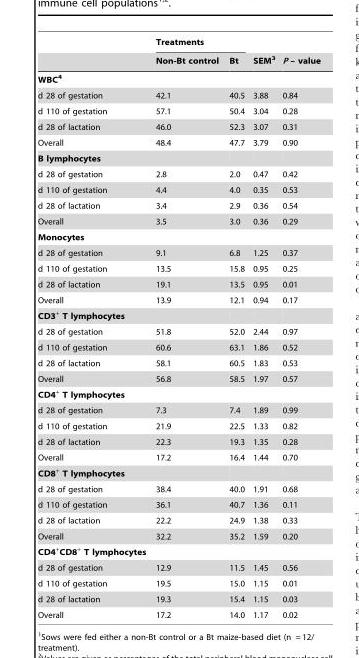table: (37, 37, 319, 619)
table column: (37, 37, 150, 619), (150, 37, 223, 619), (277, 37, 319, 619), (248, 37, 277, 619), (223, 37, 248, 619)
table column header: (37, 37, 319, 69)
table projected row header: (37, 69, 319, 87), (37, 384, 319, 402), (37, 463, 319, 481), (37, 306, 319, 323), (37, 542, 319, 559), (37, 150, 319, 166), (37, 229, 319, 244)
table row: (37, 50, 319, 69), (37, 69, 319, 87), (37, 384, 319, 402), (37, 463, 319, 481), (37, 306, 319, 323), (37, 542, 319, 559), (37, 87, 319, 103), (37, 118, 319, 134), (37, 134, 319, 150), (37, 150, 319, 166), (37, 181, 319, 197), (37, 197, 319, 213), (37, 213, 319, 229), (37, 244, 319, 260), (37, 260, 319, 276), (37, 276, 319, 292), (37, 323, 319, 339), (37, 339, 319, 355), (37, 402, 319, 418), (37, 433, 319, 449), (37, 496, 319, 512), (37, 512, 319, 528), (37, 559, 319, 575), (37, 575, 319, 591), (37, 103, 319, 118), (37, 166, 319, 181), (37, 229, 319, 244), (37, 355, 319, 370), (37, 418, 319, 433), (37, 481, 319, 496), (37, 591, 319, 606), (37, 292, 319, 306), (37, 370, 319, 384), (37, 449, 319, 463), (37, 528, 319, 542), (37, 37, 319, 50), (37, 606, 319, 619)
table spanning cell: (277, 37, 319, 69), (150, 37, 248, 50), (248, 37, 277, 69)
